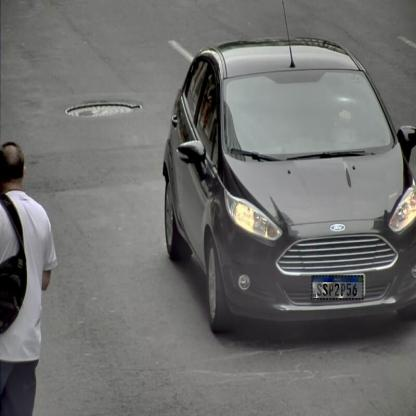PlacaM: (312, 275, 364, 300)
